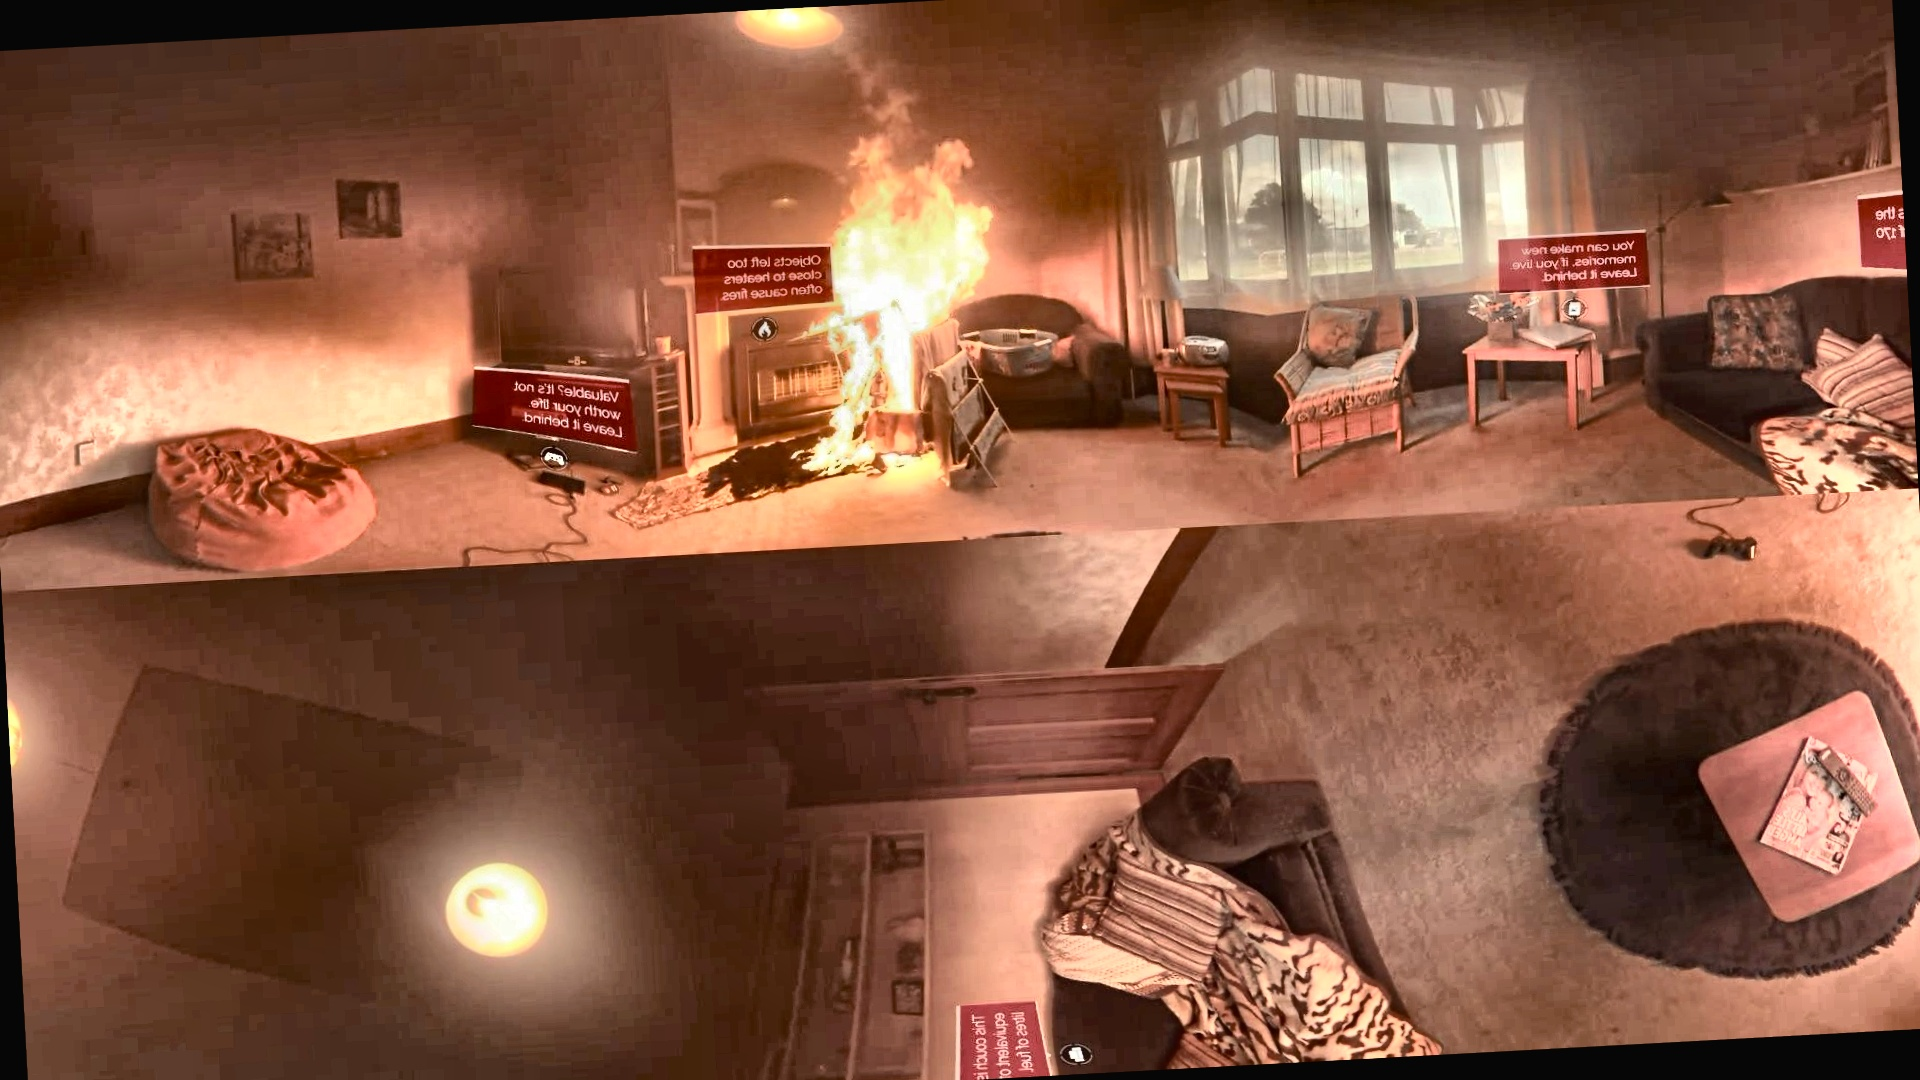fire: (775, 103, 1021, 463)
